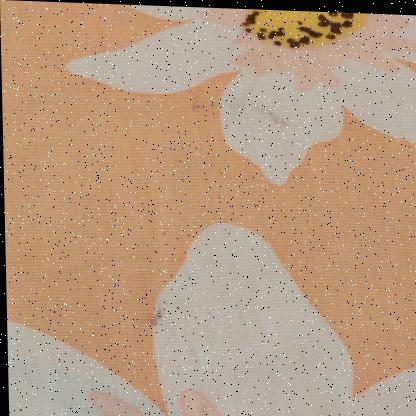spot: (226, 97, 295, 134), (139, 302, 170, 335)
